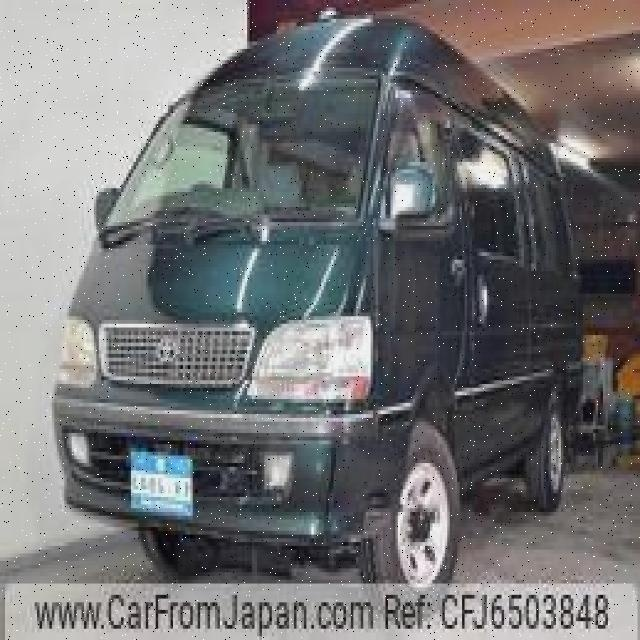Van: (54, 8, 584, 572)
